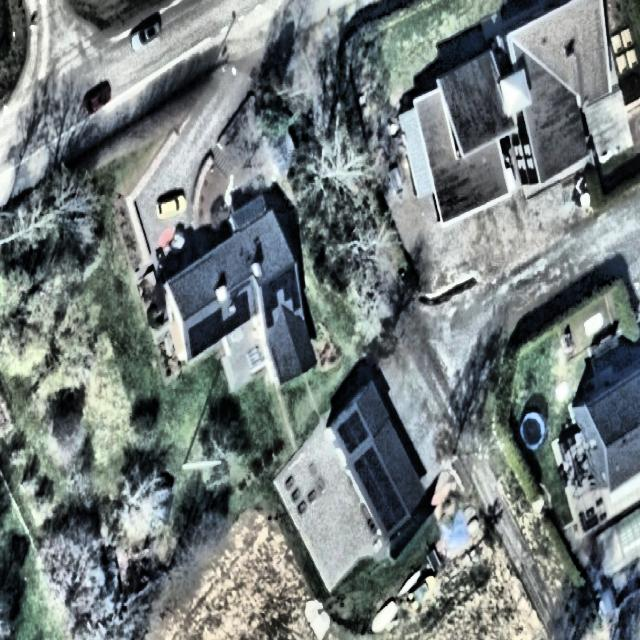roof_pv: (354, 446, 407, 534), (186, 307, 226, 354), (337, 409, 369, 462), (273, 264, 303, 314), (261, 280, 280, 330), (221, 314, 250, 338), (235, 288, 253, 323)
